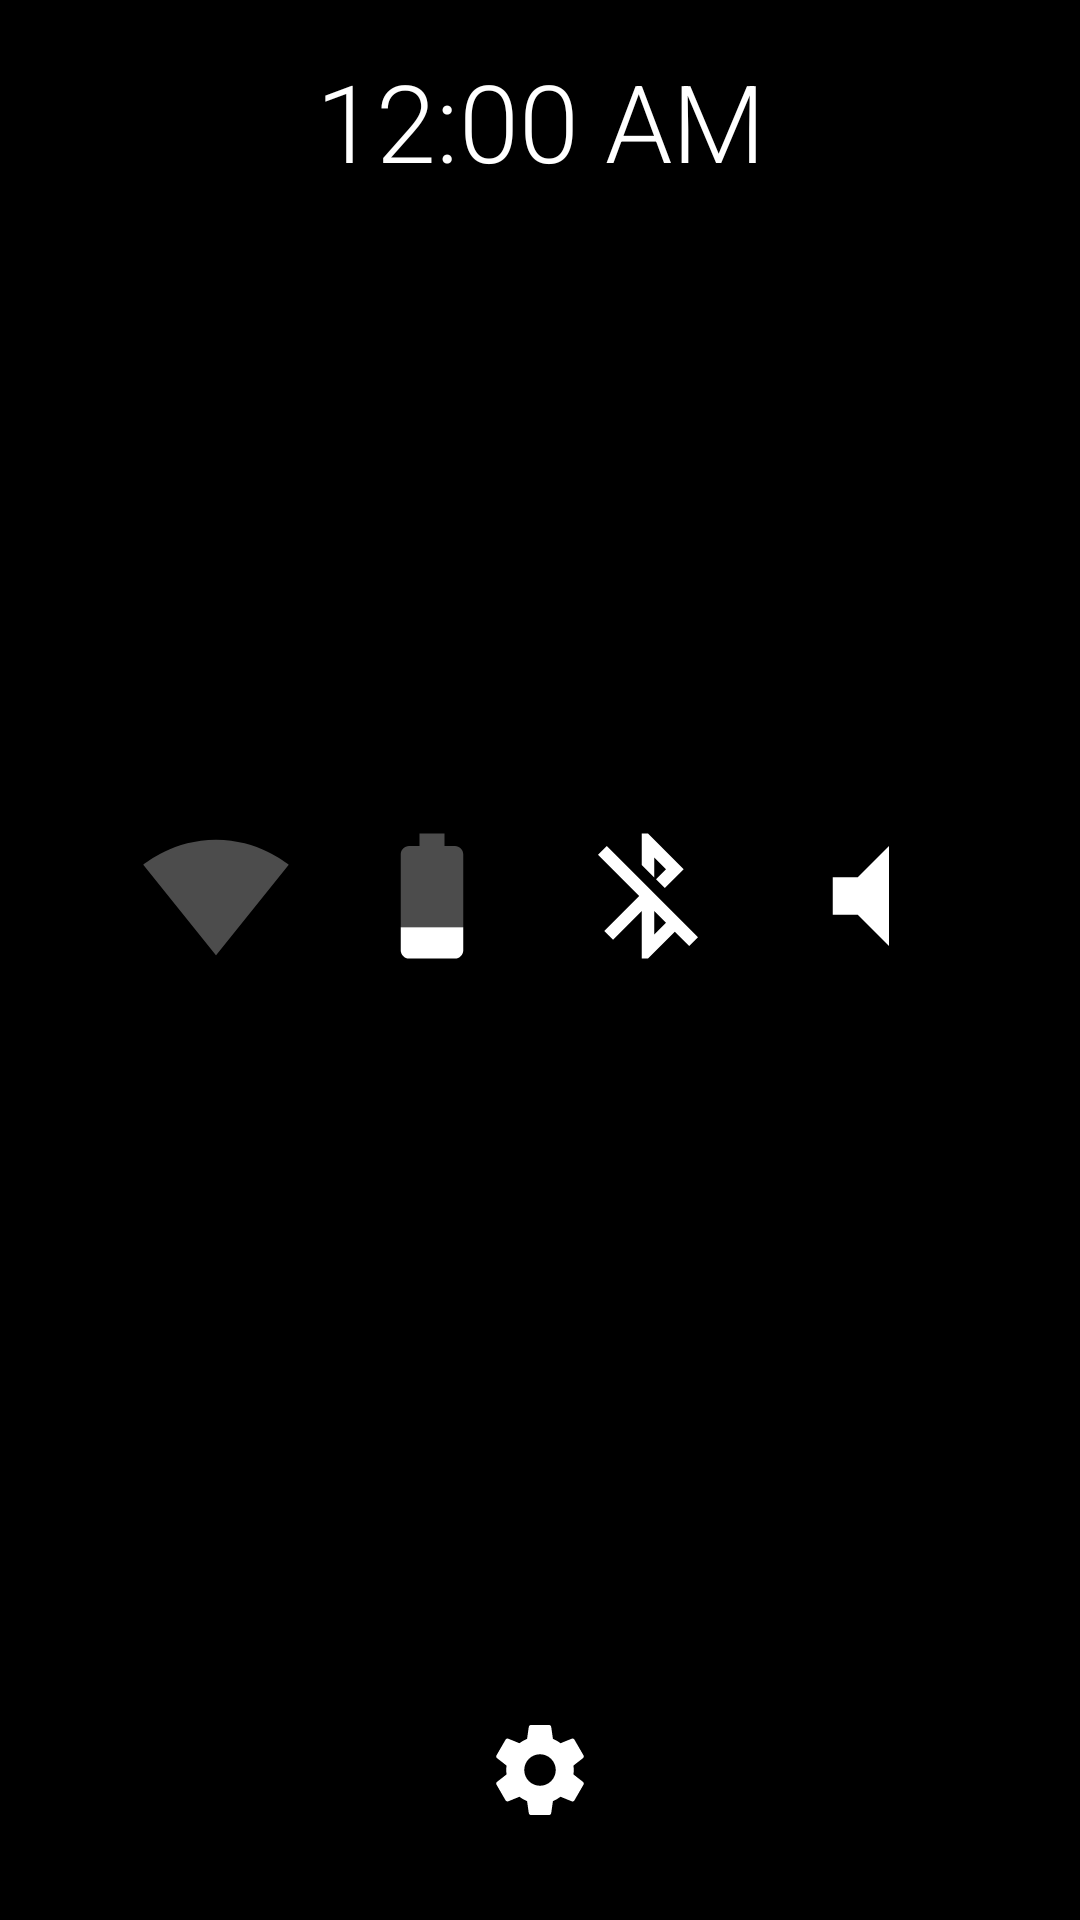

Point at icon controls on the screen. Image size 1080px×1920px, points as [x,y].
Battery state indicator: [432,896]
Volume state indicator: [860,896]
Wifi state indicator: [216,897]
